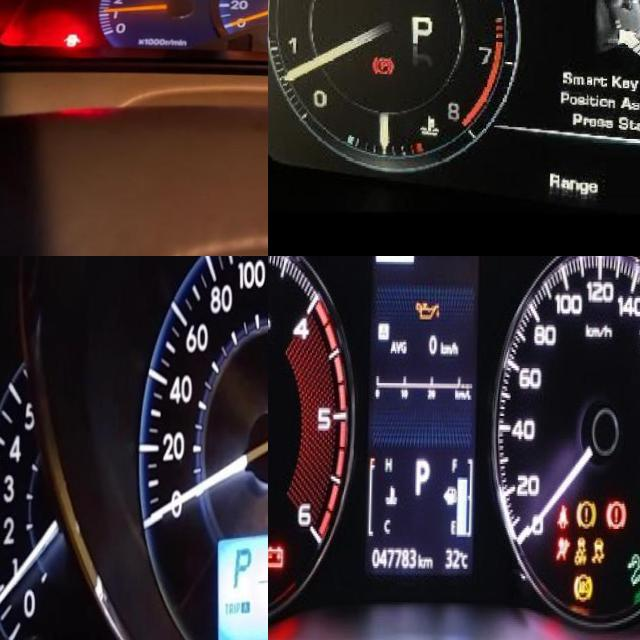Engine cooling system: (420, 115, 443, 141)
